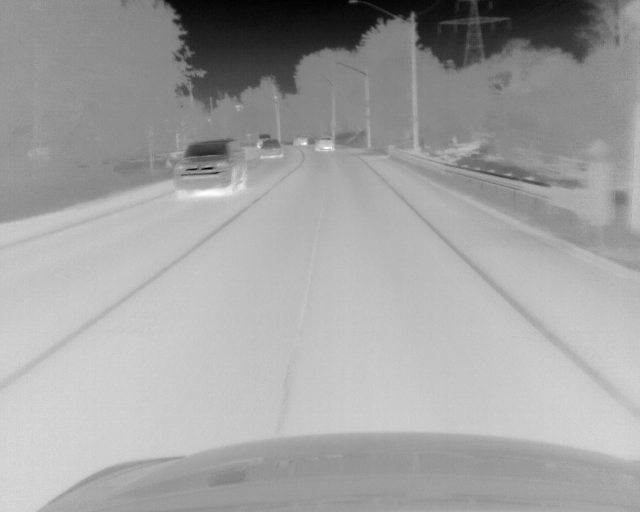car: (173, 139, 245, 195), (259, 137, 281, 159), (314, 136, 334, 150), (255, 133, 271, 148), (292, 136, 309, 146)
